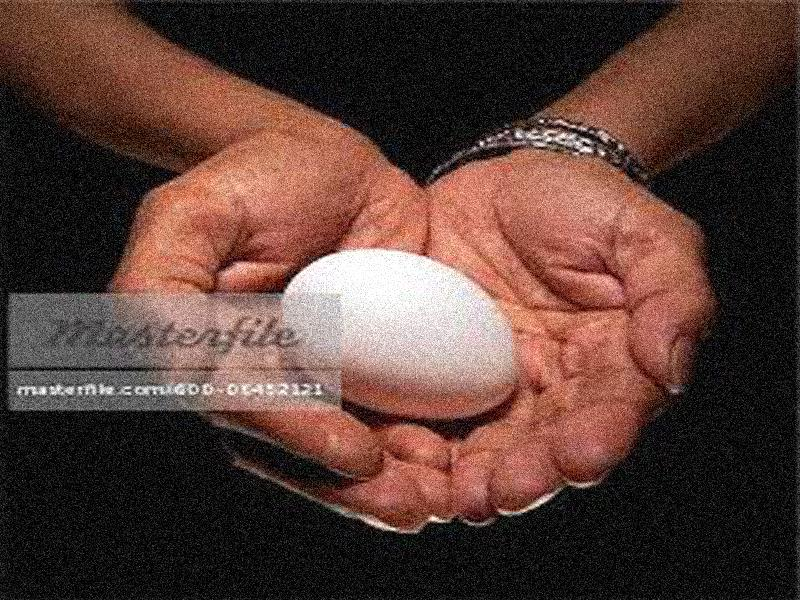Eggs: (281, 248, 519, 421)
